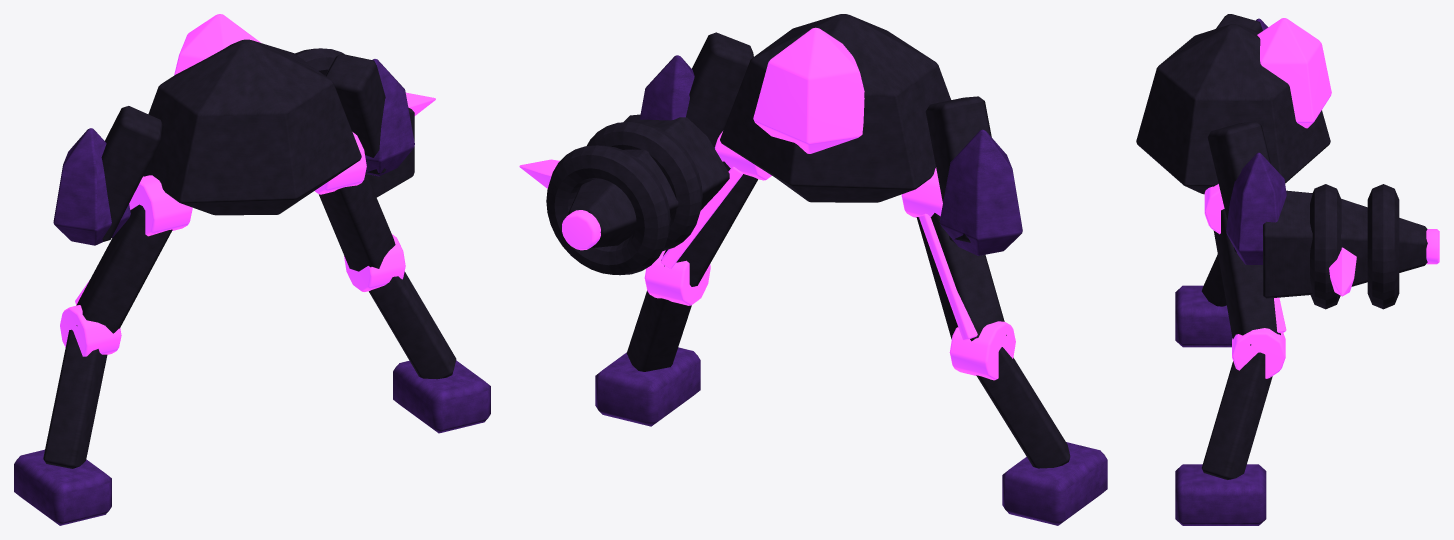
Rendered from conclave_stele.gltf.
3 views of the same model, side by side, from view 1: azimuth 30°, elevation 25°; view 2: azimuth 150°, elevation 25°; view 3: azimuth 270°, elevation 25° (orthographic). The views are drawn at different scales.
Parts seen in each view (by area): view 1: Body.009_Geometry, Arm_-1.001_Geometry, Hip_L0.001_Geometry, Knee_L0.001_Geometry, Arm_1.001_Geometry, Knee_R0.001_Geometry, Hip_R0.001_Geometry, Foot_L0.001_Geometry, Foot_R0.001_Geometry, GunRecoil.010_Geometry; view 2: Body.009_Geometry, GunRecoil.010_Geometry, Arm_-1.001_Geometry, Knee_L0.001_Geometry, Arm_1.001_Geometry, Hip_L0.001_Geometry, Foot_L0.001_Geometry, Foot_R0.001_Geometry, Knee_R0.001_Geometry, Hip_R0.001_Geometry; view 3: Body.009_Geometry, GunRecoil.010_Geometry, Arm_1.001_Geometry, Knee_R0.001_Geometry, Foot_R0.001_Geometry, Hip_R0.001_Geometry, Foot_L0.001_Geometry, Knee_L0.001_Geometry, Arm_-1.001_Geometry.
Part boxes in pixels (x1,y1,x2,y2): Body.009_Geometry: [143, 14, 361, 215]; Arm_-1.001_Geometry: [53, 106, 163, 245]; Hip_L0.001_Geometry: [75, 175, 192, 333]; Knee_L0.001_Geometry: [43, 305, 121, 468]; Arm_1.001_Geometry: [325, 54, 414, 176]; Knee_R0.001_Geometry: [344, 234, 456, 379]; Hip_R0.001_Geometry: [314, 132, 395, 271]; Foot_L0.001_Geometry: [14, 449, 111, 525]; Foot_R0.001_Geometry: [393, 360, 490, 433]; GunRecoil.010_Geometry: [295, 48, 435, 197]; Body.009_Geometry: [720, 14, 950, 202]; GunRecoil.010_Geometry: [519, 114, 729, 275]; Arm_-1.001_Geometry: [925, 96, 1022, 255]; Knee_L0.001_Geometry: [949, 321, 1070, 468]; Arm_1.001_Geometry: [640, 32, 753, 148]; Hip_L0.001_Geometry: [901, 167, 1006, 341]; Foot_L0.001_Geometry: [1002, 442, 1107, 525]; Foot_R0.001_Geometry: [595, 347, 700, 426]; Knee_R0.001_Geometry: [626, 250, 710, 371]; Hip_R0.001_Geometry: [661, 131, 771, 286]; Body.009_Geometry: [1136, 18, 1331, 194]; GunRecoil.010_Geometry: [1263, 184, 1439, 309]; Arm_1.001_Geometry: [1207, 121, 1286, 264]; Knee_R0.001_Geometry: [1201, 328, 1285, 479]; Foot_R0.001_Geometry: [1175, 464, 1266, 525]; Hip_R0.001_Geometry: [1204, 184, 1286, 345]; Foot_L0.001_Geometry: [1175, 285, 1232, 347]; Knee_L0.001_Geometry: [1201, 254, 1226, 306]; Arm_-1.001_Geometry: [1216, 14, 1268, 31].
Bounding box in the file's own units: 2.46 × 2.13 × 1.43.
Materials: 3 (2 with a texture image).
